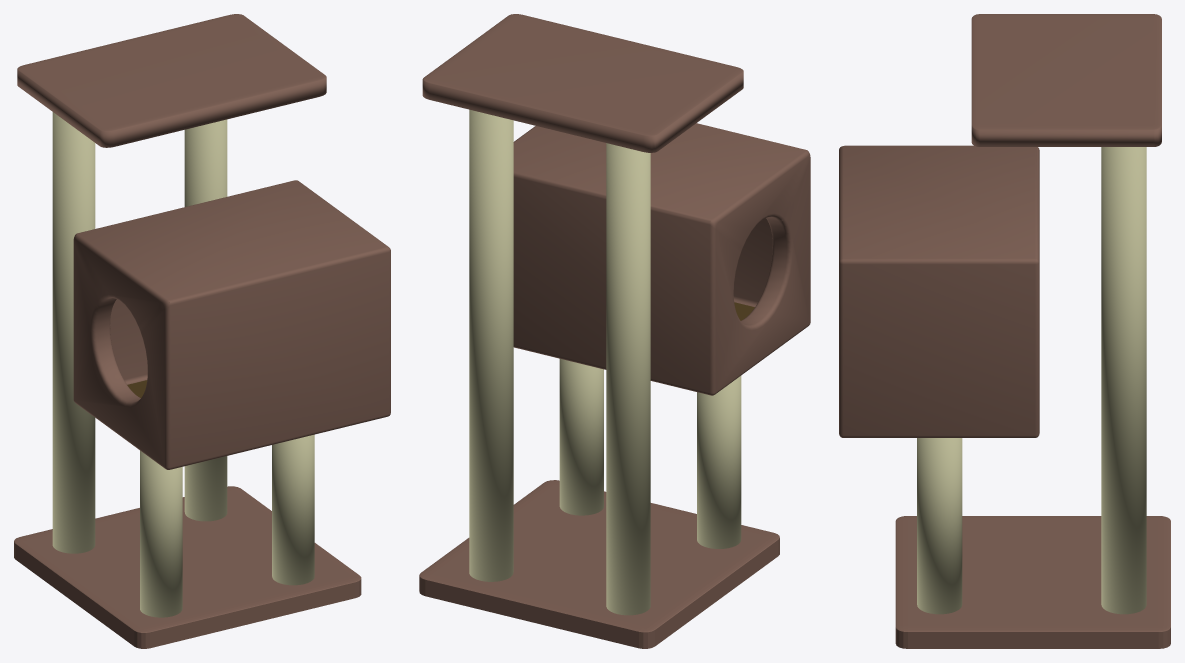
The model's file is CatPlayground.fbx.
The picture shows the model from 3 angles, left to right: view 1: azimuth 30°, elevation 25°; view 2: azimuth 150°, elevation 25°; view 3: azimuth 270°, elevation 25°; orthographic projection. The views are drawn at different scales.
Parts seen in each view (by area): view 1: Cube.001, Cube.002, Cube, Cylinder, Cylinder.001, Cylinder.003, Cylinder.002; view 2: Cube.001, Cube, Cube.002, Cylinder, Cylinder.002, Cylinder.001, Cylinder.003; view 3: Cube.001, Cube, Cube.002, Cylinder.002, Cylinder.003.
Boxes of the visible parts, bbox=[...] form: Cube.001: bbox=[73, 180, 390, 469]; Cube.002: bbox=[17, 14, 326, 147]; Cube: bbox=[14, 486, 361, 648]; Cylinder: bbox=[52, 112, 95, 553]; Cylinder.001: bbox=[140, 450, 182, 617]; Cylinder.003: bbox=[272, 434, 314, 585]; Cylinder.002: bbox=[184, 119, 227, 521]; Cube.001: bbox=[513, 123, 810, 395]; Cube: bbox=[419, 480, 779, 648]; Cube.002: bbox=[422, 14, 743, 152]; Cylinder: bbox=[606, 143, 650, 615]; Cylinder.002: bbox=[469, 109, 513, 581]; Cylinder.001: bbox=[697, 376, 741, 548]; Cylinder.003: bbox=[559, 358, 603, 515]; Cube.001: bbox=[839, 145, 1039, 437]; Cube: bbox=[895, 516, 1170, 648]; Cube.002: bbox=[971, 14, 1161, 146]; Cylinder.002: bbox=[1101, 147, 1146, 614]; Cylinder.003: bbox=[917, 438, 962, 614].
Bounding box in the file's own units: 73 × 152 × 88.03.
